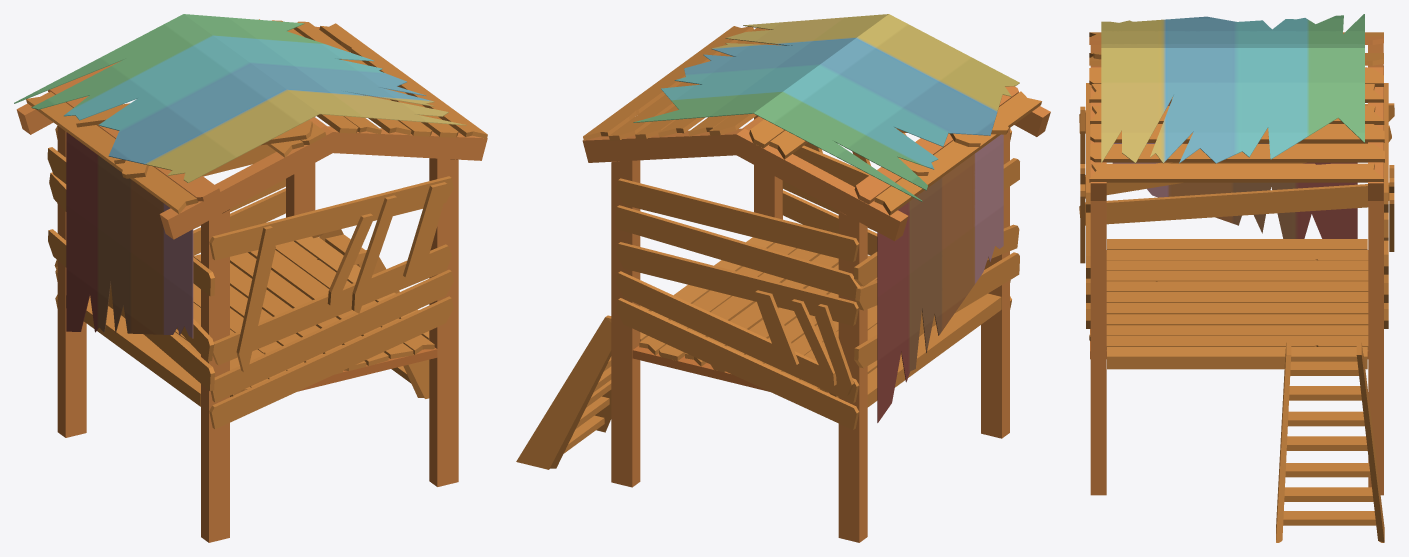
The model's file is House_01.fbx.
3 renders of one model, left to right at view 1: azimuth 30°, elevation 25°; view 2: azimuth 150°, elevation 25°; view 3: azimuth 270°, elevation 25°, orthographic. The views are drawn at different scales.
Parts seen in each view (by area): view 1: House_01; view 2: House_01; view 3: House_01.
Part boxes in pixels (x1,y1,x2,y2): House_01: (14,14,487,542); House_01: (516,14,1050,542); House_01: (1079,14,1394,542).
Bounding box in the file's own units: 970 × 928 × 686.
1 material, 1 textured.
